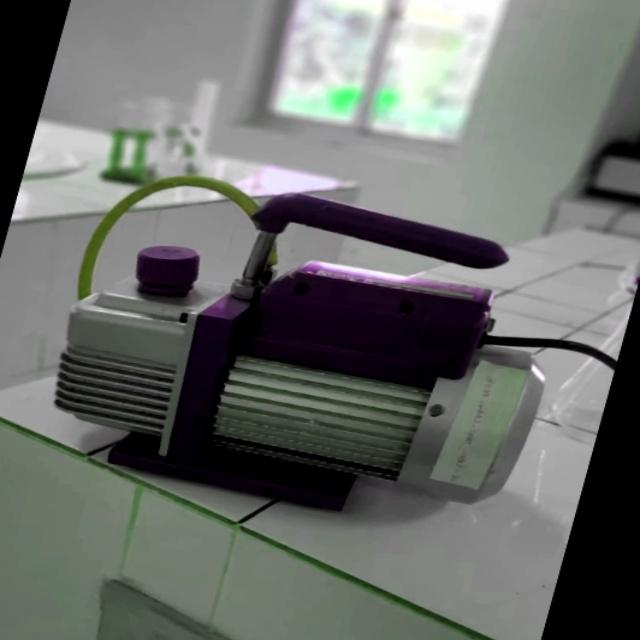Vacuum Pump: (0, 160, 606, 540)
